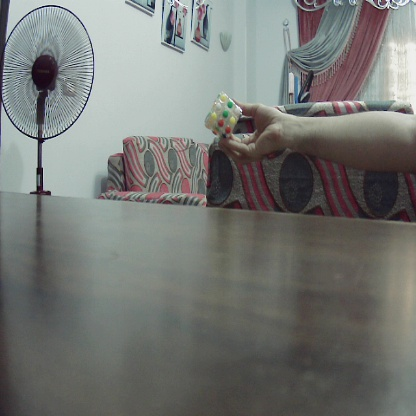Rubix Cube: (202, 90, 243, 136)
